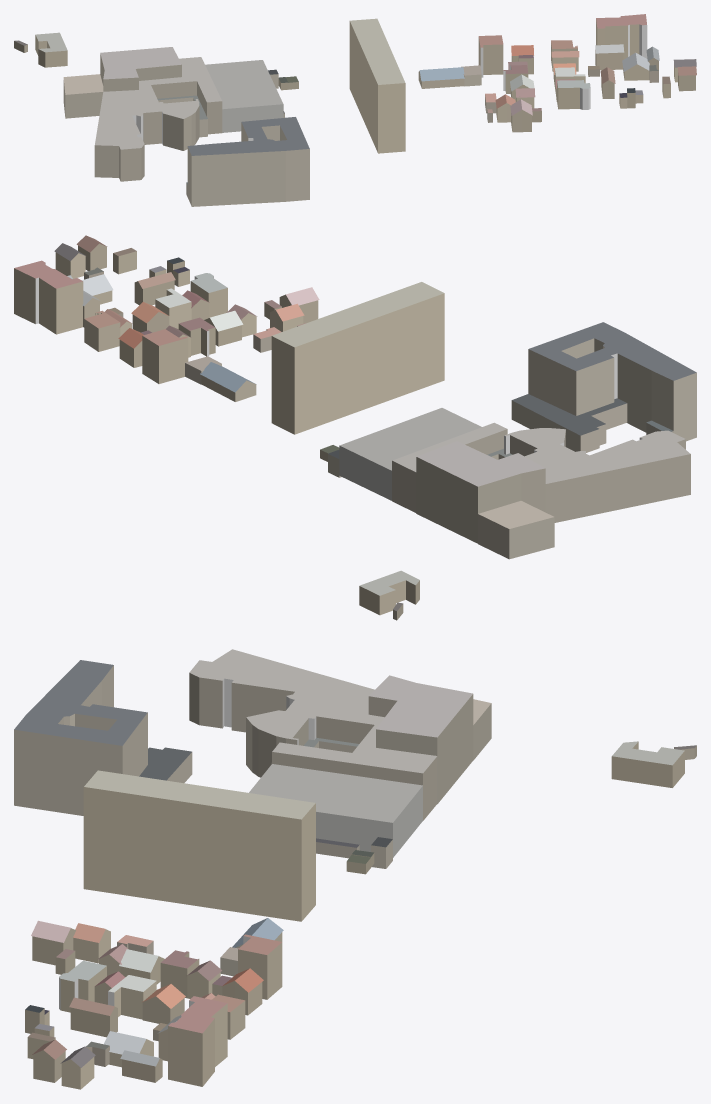
3 renders of one model, top to bottom at view 1: azimuth 30°, elevation 25°; view 2: azimuth 150°, elevation 25°; view 3: azimuth 270°, elevation 25°, orthographic. The views are drawn at different scales.
Parts seen in each view (by area): view 1: tuile; view 2: tuile; view 3: tuile.
Boxes of the visible parts, left/top/right/bottom form: tuile: left=14, top=14, right=696, bottom=206; tuile: left=14, top=235, right=696, bottom=620; tuile: left=14, top=649, right=696, bottom=1089.
Bounding box in the file's own units: 277 × 35.22 × 199.
